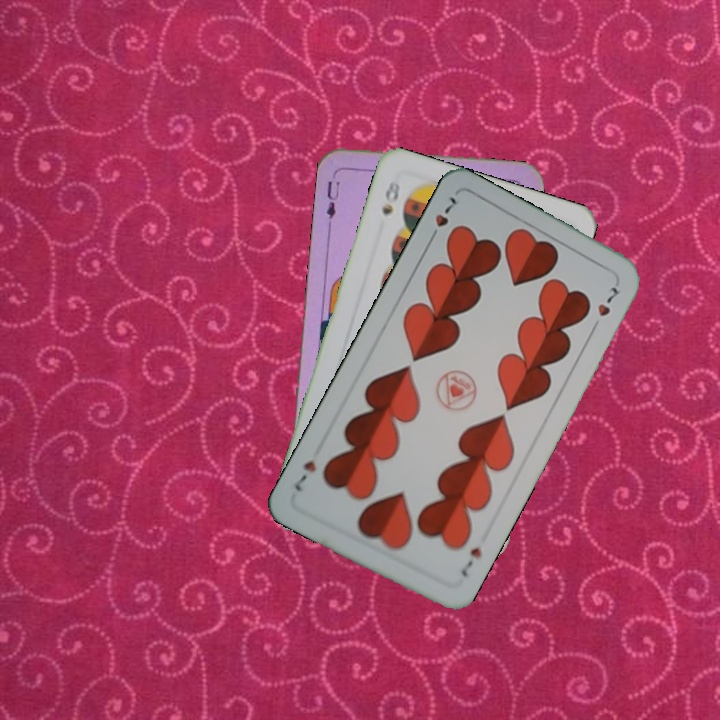EU: (322, 168, 343, 227)
H7: (424, 192, 460, 246), (456, 543, 484, 580)
S8: (378, 176, 403, 218)
